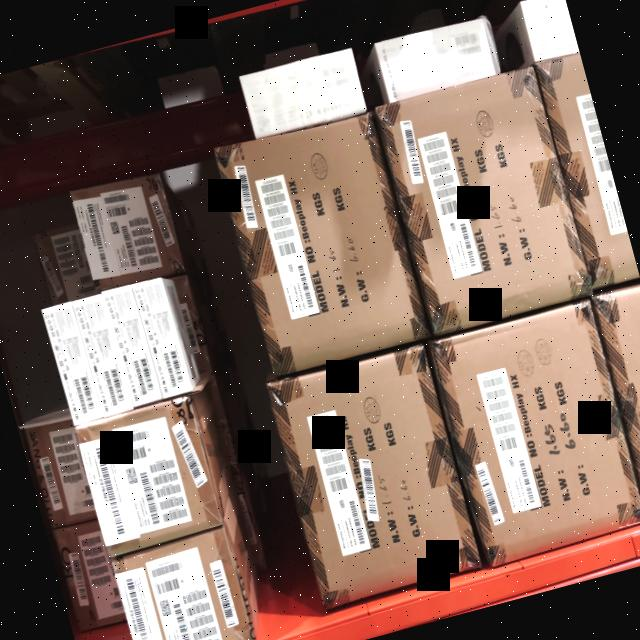box: (378, 67, 592, 335), (267, 345, 481, 610), (216, 109, 427, 375), (436, 304, 640, 563), (76, 402, 222, 555), (112, 534, 254, 640), (240, 51, 366, 138), (377, 20, 499, 100), (73, 295, 134, 415), (44, 305, 101, 426), (135, 279, 192, 395), (106, 287, 162, 404)
